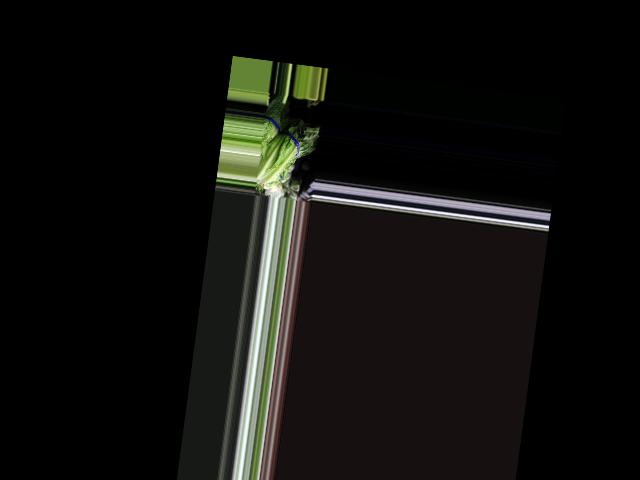lettuce: (256, 116, 316, 186)
